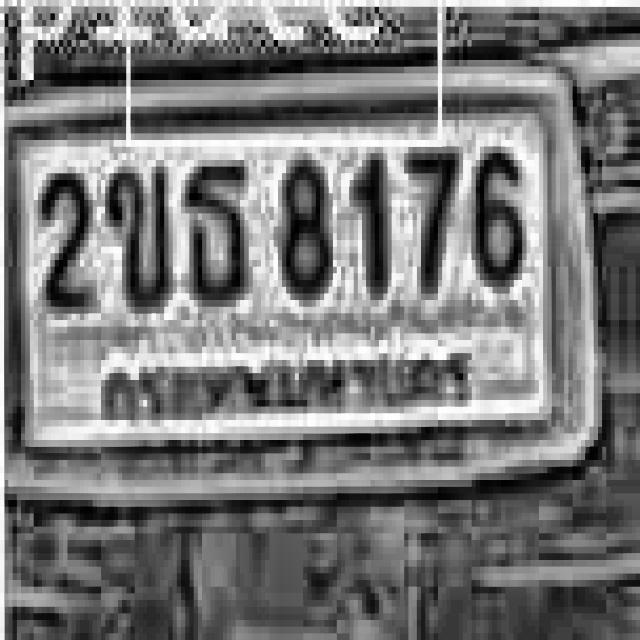license-plate: (0, 53, 598, 500)
